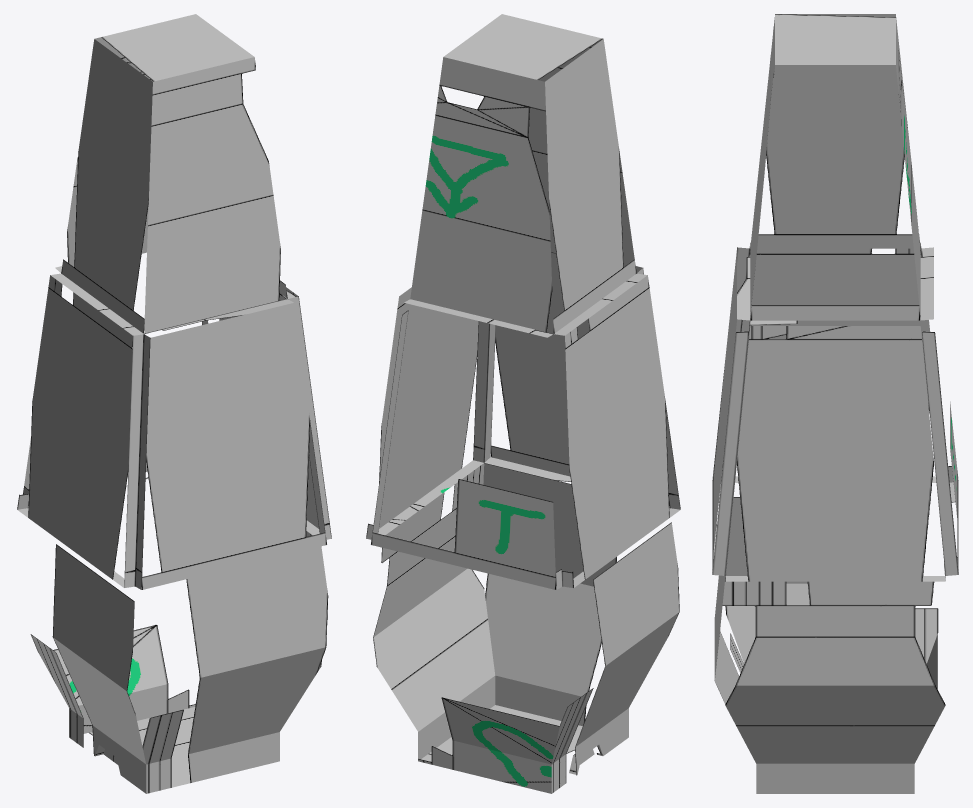
Rendered from electric_oven.obj.
The picture shows the model from 3 angles, left to right: view 1: azimuth 30°, elevation 25°; view 2: azimuth 150°, elevation 25°; view 3: azimuth 270°, elevation 25°; orthographic projection. The views are drawn at different scales.
Parts seen in each view (by area): view 1: Cube; view 2: Cube; view 3: Cube.
Boxes of the visible parts, x1,y1,x2,y2 form: Cube: (17,14,331,793); Cube: (366,14,680,793); Cube: (712,14,958,793).
Bounding box in the file's own units: 4.66 × 15.06 × 4.66.
